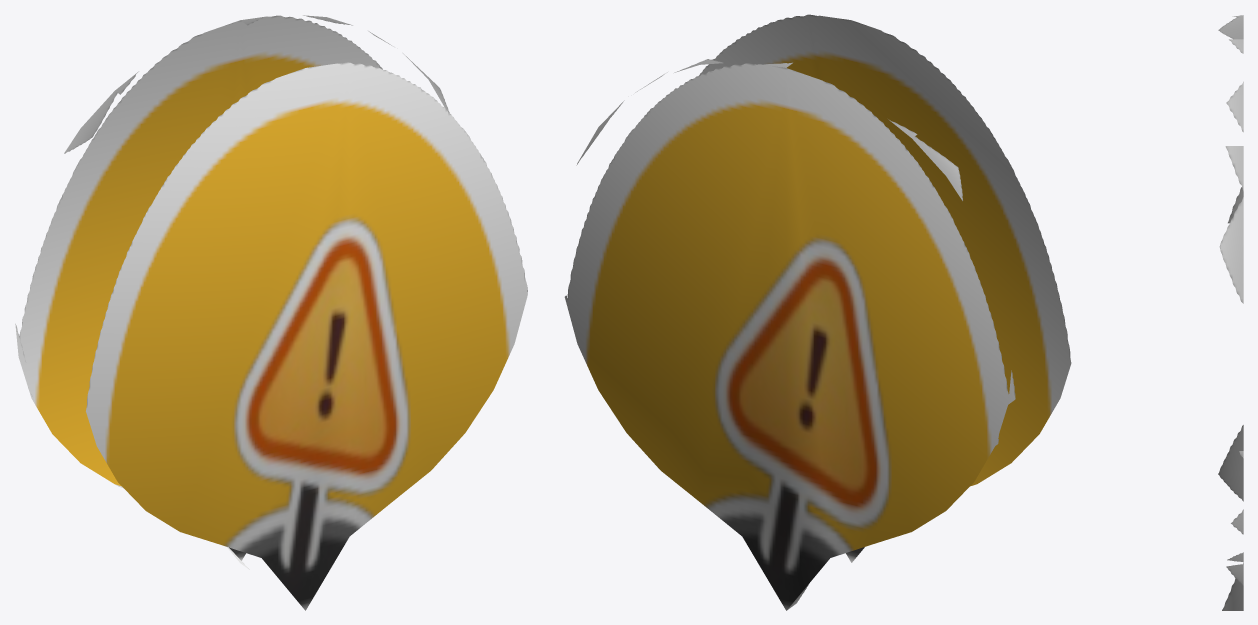
The model's file is ashole.obj.
3 views of the same model, side by side, from view 1: azimuth 30°, elevation 25°; view 2: azimuth 150°, elevation 25°; view 3: azimuth 270°, elevation 25° (orthographic). The views are drawn at different scales.
Parts seen in each view (by area): view 1: Cylinder; view 2: Cylinder; view 3: Cylinder.
Boxes of the visible parts, bbox=[...] form: Cylinder: bbox=[15, 15, 527, 610]; Cylinder: bbox=[564, 14, 1071, 610]; Cylinder: bbox=[1218, 15, 1243, 610].
Size of the model in its own units: 2 by 2.29 by 0.5.
